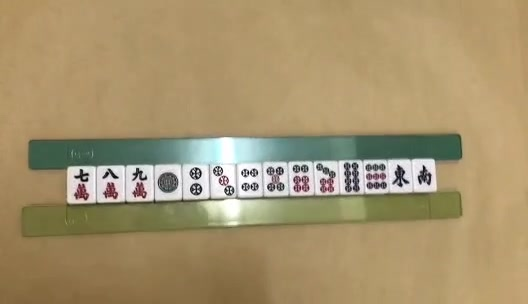1p: (157, 172, 179, 193)
1z: (393, 165, 410, 188)
2p: (190, 168, 204, 196)
2z: (416, 166, 433, 186)
3p: (213, 166, 234, 197)
4p: (241, 168, 259, 191)
5p: (267, 166, 284, 192)
6p: (292, 163, 311, 193)
7m: (73, 170, 90, 200)
7p: (317, 162, 335, 193)
8m: (102, 169, 118, 200)
8p: (344, 162, 359, 194)
9m: (131, 169, 147, 199)
9p: (366, 164, 387, 190)
